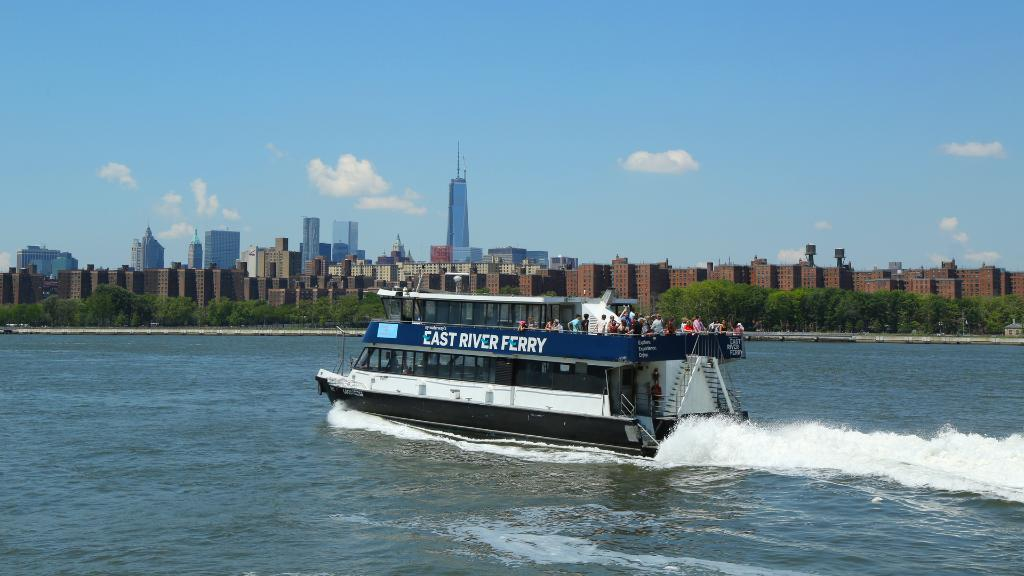PassengerShip: (311, 265, 753, 457)
